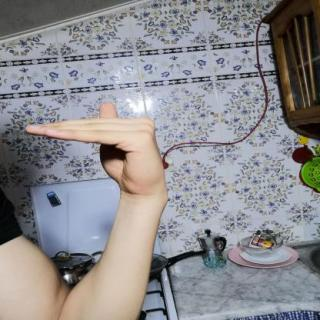KHAA: (16, 95, 172, 200)
